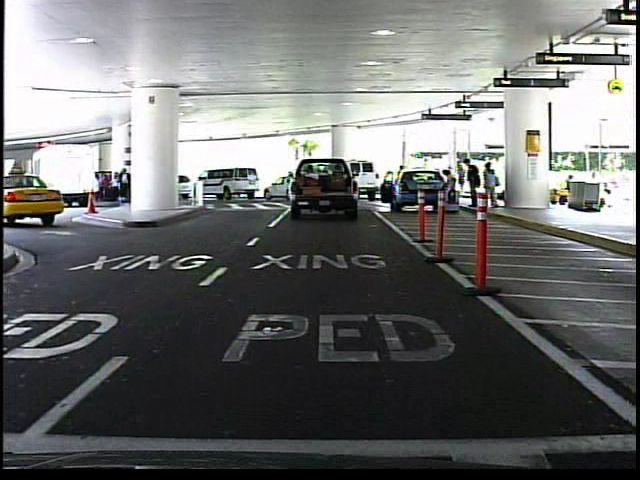person: (443, 166, 461, 213), (395, 163, 411, 204)
